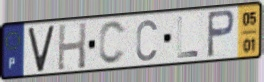C: (96, 19, 128, 66), (134, 18, 158, 63)
H: (56, 21, 89, 72)
L: (176, 14, 200, 60)
P: (206, 8, 237, 59)
V: (27, 24, 57, 74)
